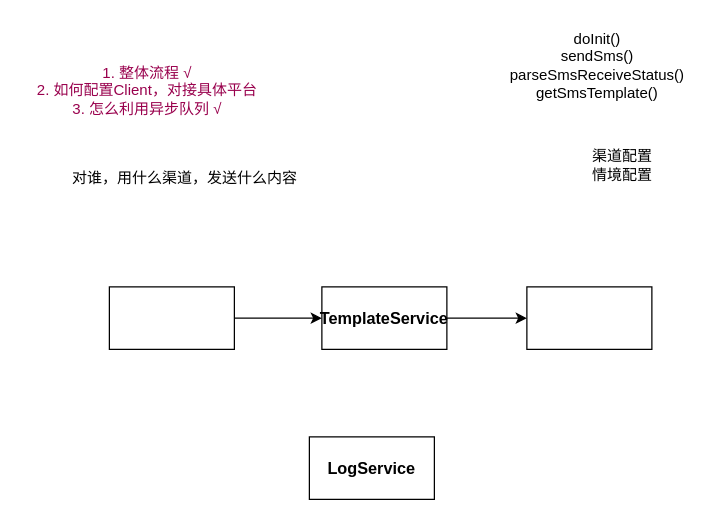
Image size: 718x521. Some labels were removed from this diagram. Here are the shapes that lost their labels. From the top down, the centre of each, then its label:
At (171,317): "SendService".
At (589,317): "ChannelService".
